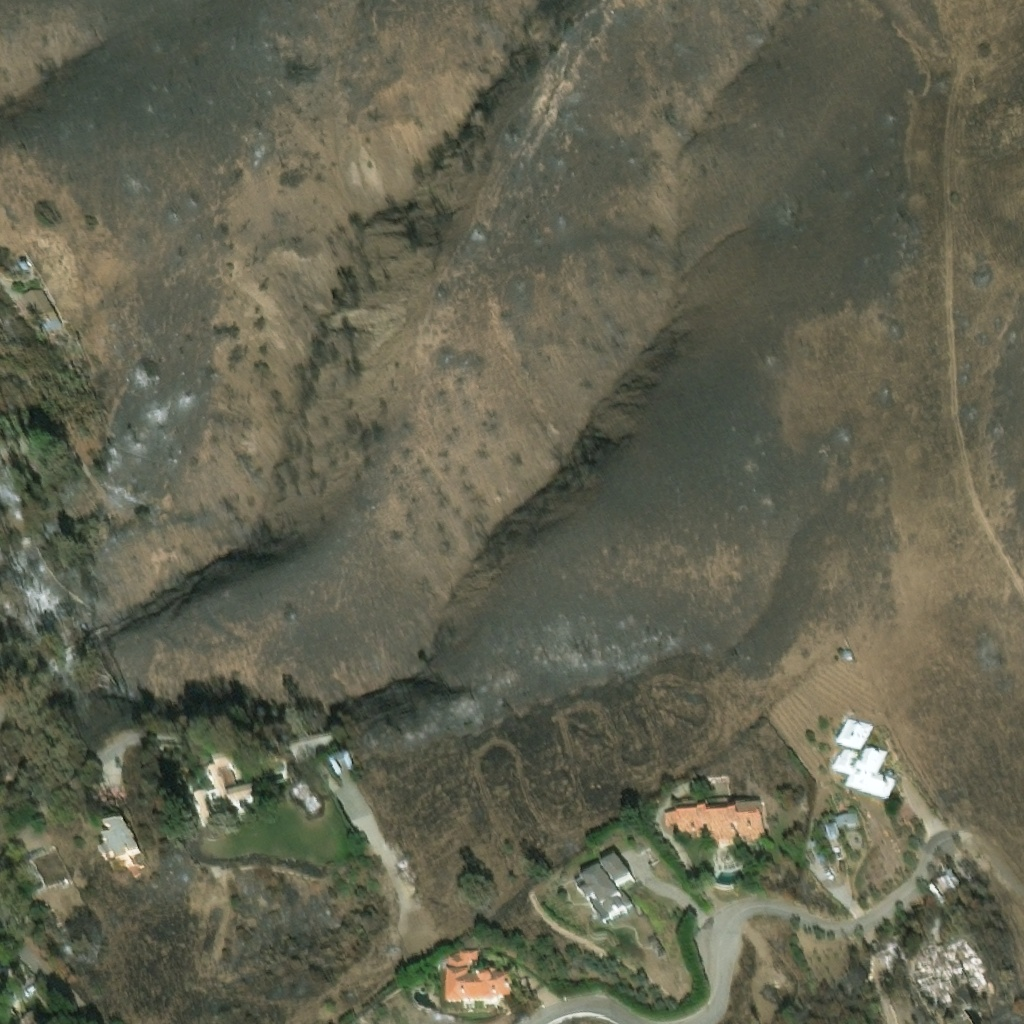0 no-damage: (182, 735, 263, 825), (830, 714, 895, 799), (663, 788, 765, 841), (438, 942, 510, 1008), (571, 849, 633, 925), (17, 275, 60, 331), (95, 808, 137, 861), (821, 809, 860, 842), (0, 975, 30, 1007), (323, 740, 351, 768), (98, 768, 121, 789), (2, 247, 23, 264), (287, 772, 304, 787), (300, 784, 314, 801)
3 destroyed: (902, 930, 993, 1002), (922, 864, 963, 898), (945, 842, 977, 877), (878, 931, 908, 964), (929, 911, 940, 921), (930, 923, 939, 931)
4 un-classified: (13, 1001, 45, 1023)
